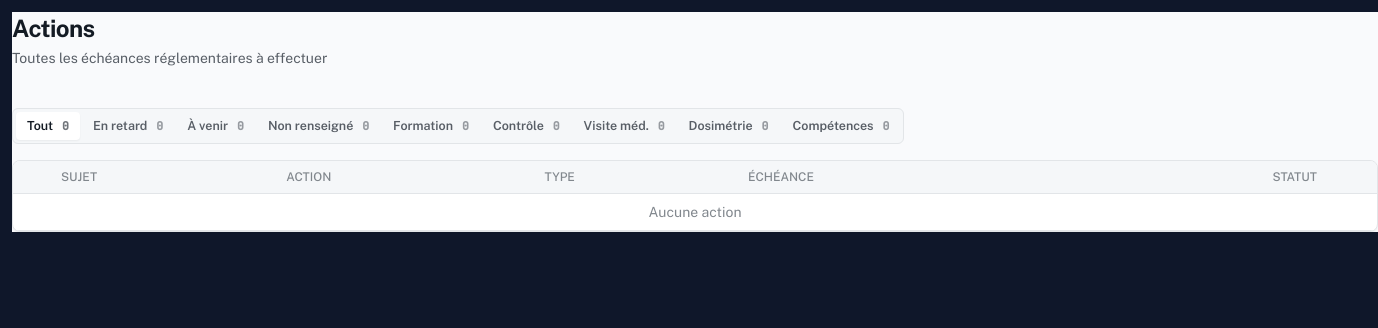
it: Actions › should filter actions by Visite medicale category
The width and height of the screenshot is (1378, 328).
Check: the heading "Actions" is shown, box [12,14,94,42]
What coordinates should you click on to do the following:
click the button "Visite méd. 0"
I would click on:
 (624, 126)
Its box is [573,112,676,140].
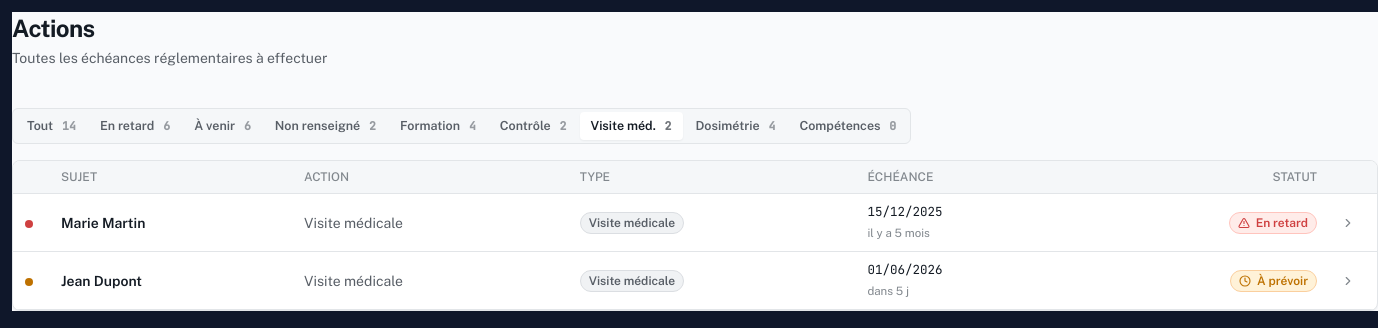
Check: the number of rows is 3, box [13,161,1377,194]; [13,194,1377,252]; [13,252,1377,310]
Check: the row that starts with "Marie Martin" shows "Visite médicale", box [304,215,403,231]
Check: the row that starts with "Jean Dupont" shows "Visite médicale", box [304,273,403,289]
